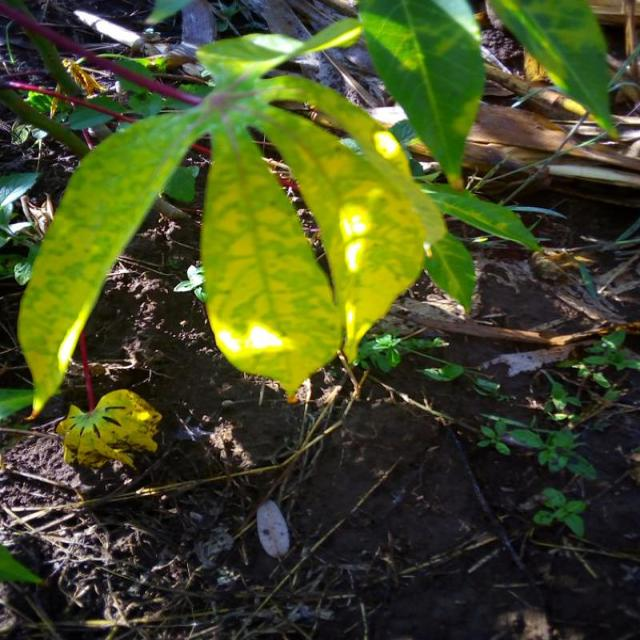cassava leaf: (16, 15, 474, 419), (16, 102, 206, 420), (198, 115, 344, 399), (356, 0, 486, 189), (487, 0, 621, 142)
